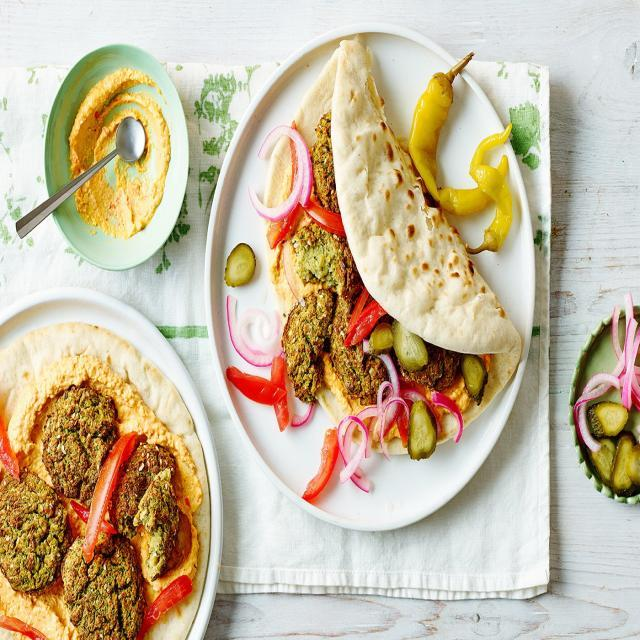flafel: (41, 385, 117, 495), (67, 529, 139, 640), (0, 469, 64, 592), (283, 288, 329, 409)
